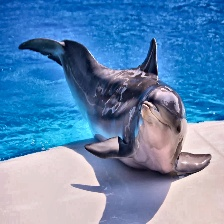dolphin: (12, 35, 207, 190)
